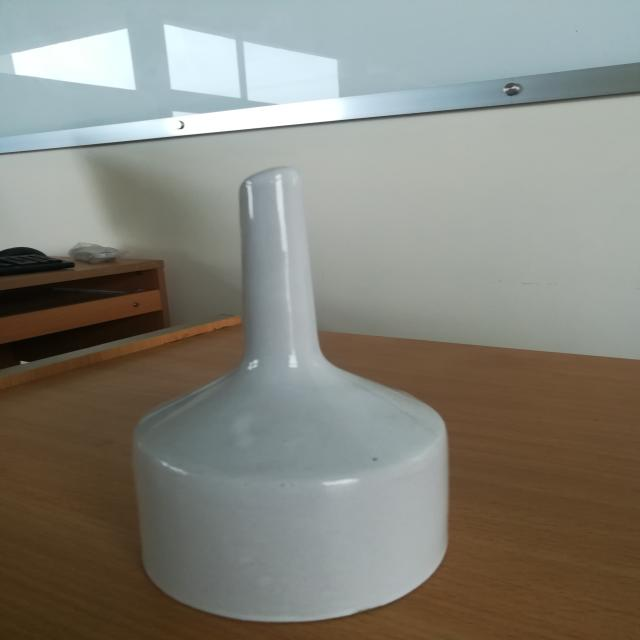Buchner_Funnel: (84, 126, 490, 640)
